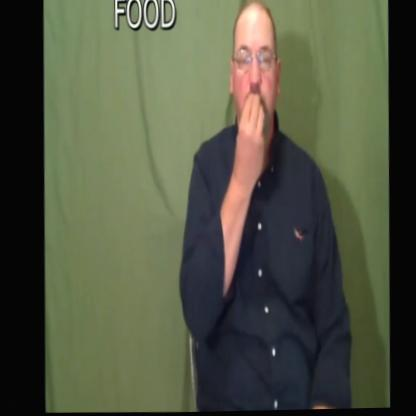Food: (223, 0, 295, 195)
